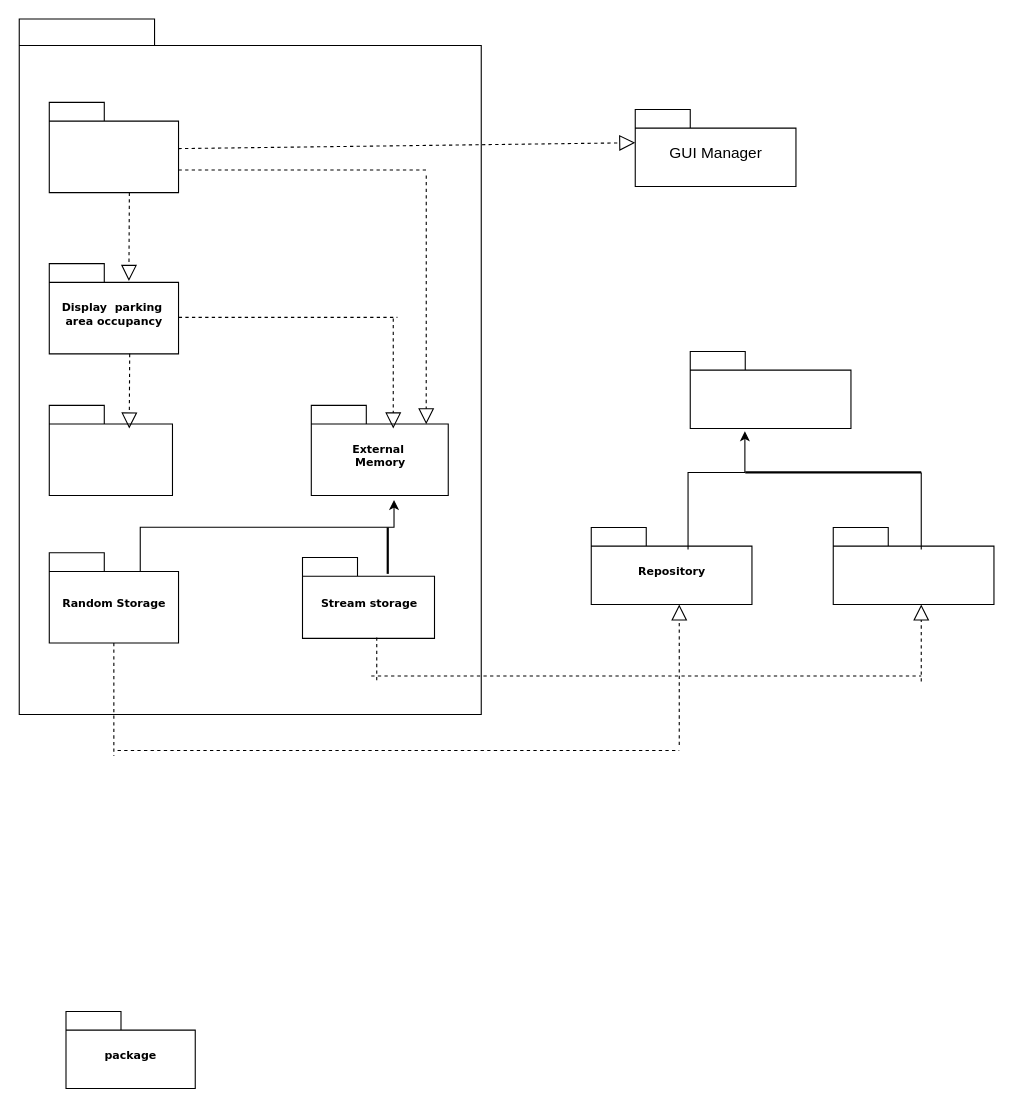
Some shapes in this 1014 by 1109 pixel diagram are drawn without their labels. The centre of each missing label's shape, as x and y in pixels:
"File Storage" goes at [913,565].
"Reserve space in garage" goes at [110,450].
"Storage Management" goes at [770,389].
"UI" goes at [113,147].
